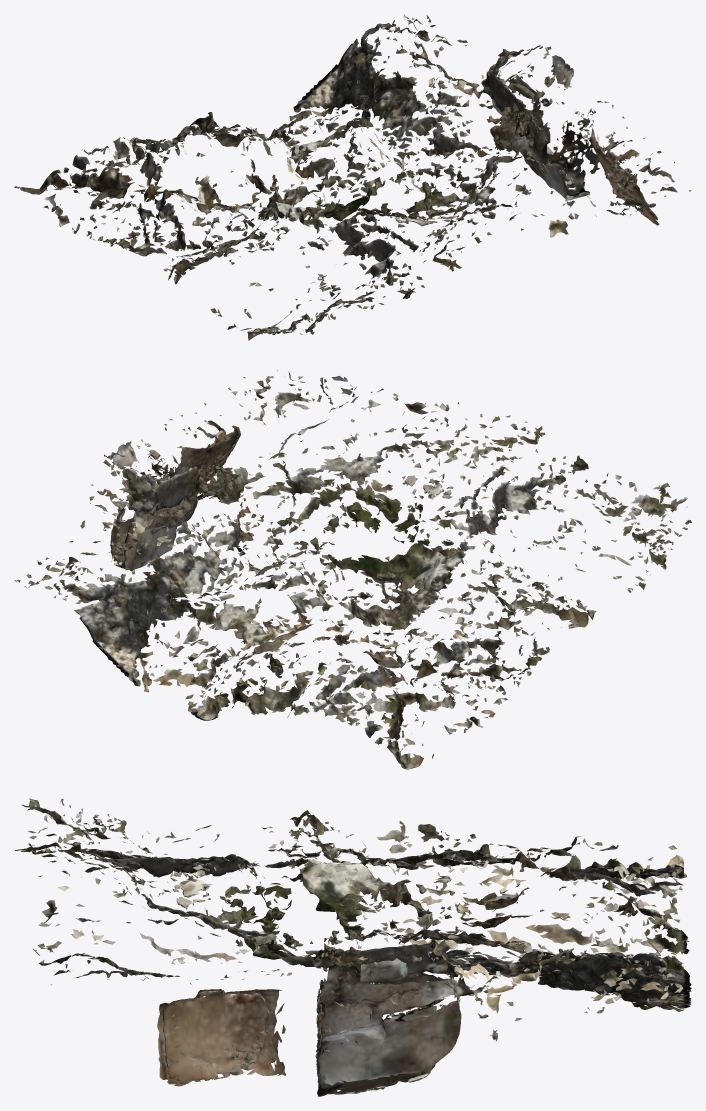
3 renders of one model, top to bottom at view 1: azimuth 30°, elevation 25°; view 2: azimuth 150°, elevation 25°; view 3: azimuth 270°, elevation 25°, orthographic. The views are drawn at different scales.
Size of the model in its own units: 11.67 by 3.21 by 12.64.
1 material, 1 textured.
